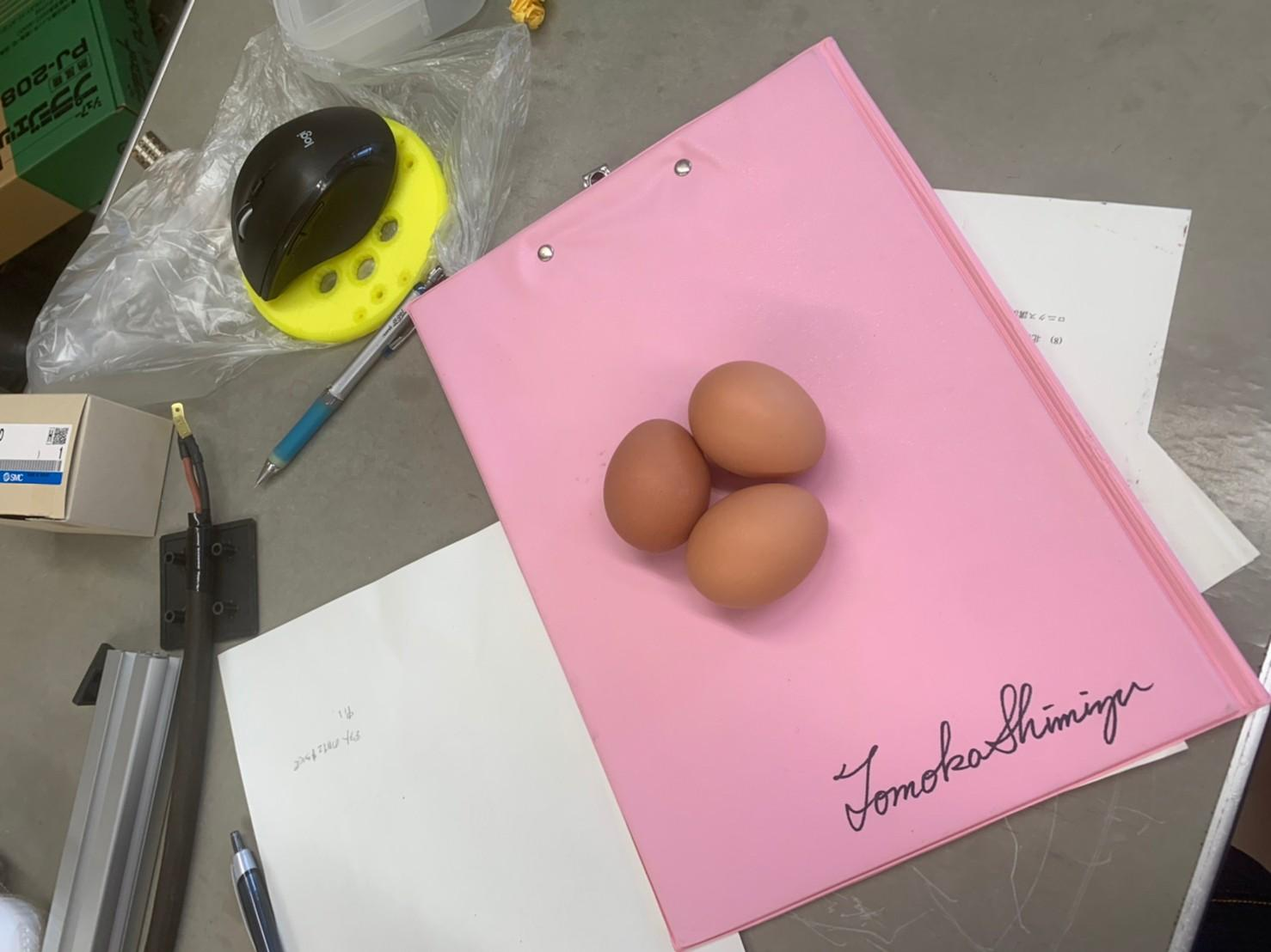egg: (691, 474, 831, 620), (681, 351, 826, 479), (599, 409, 708, 567)
